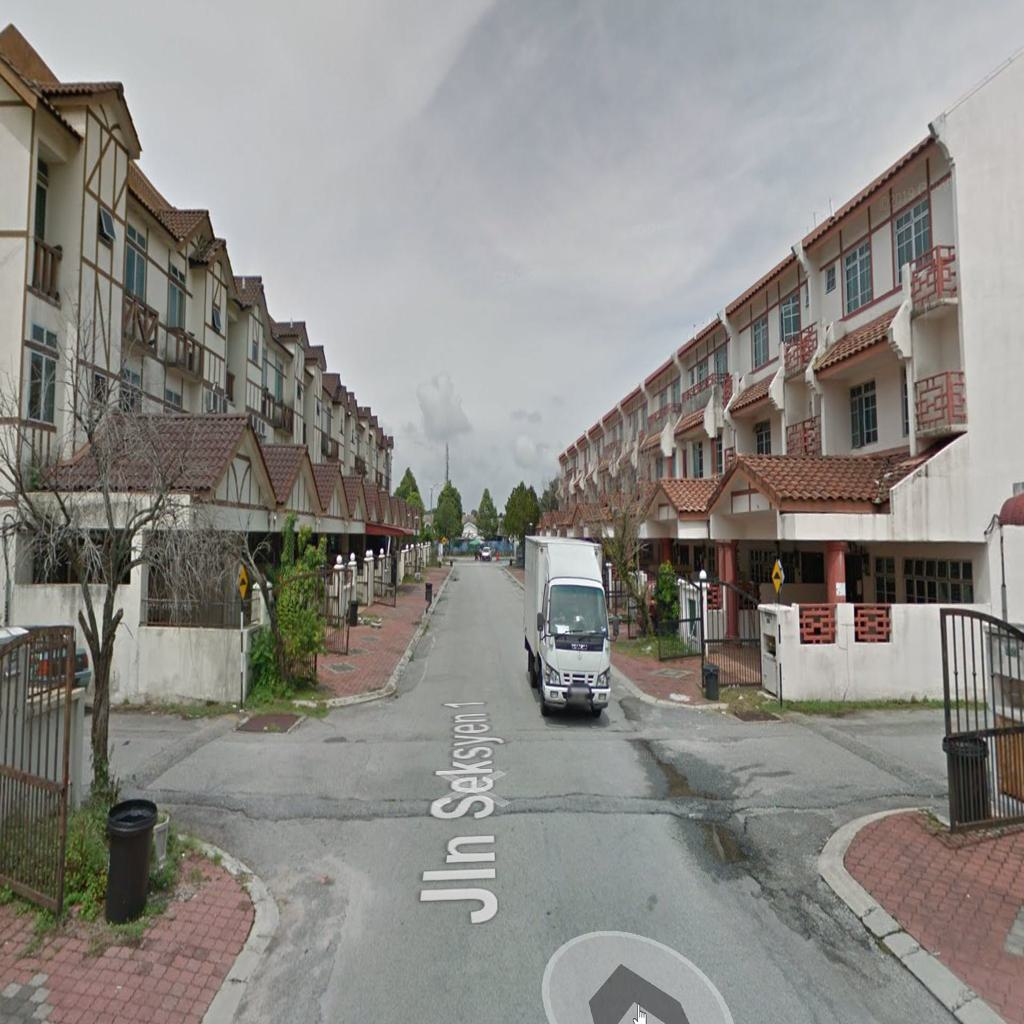Junction: (51, 665, 445, 922), (652, 672, 983, 881)
